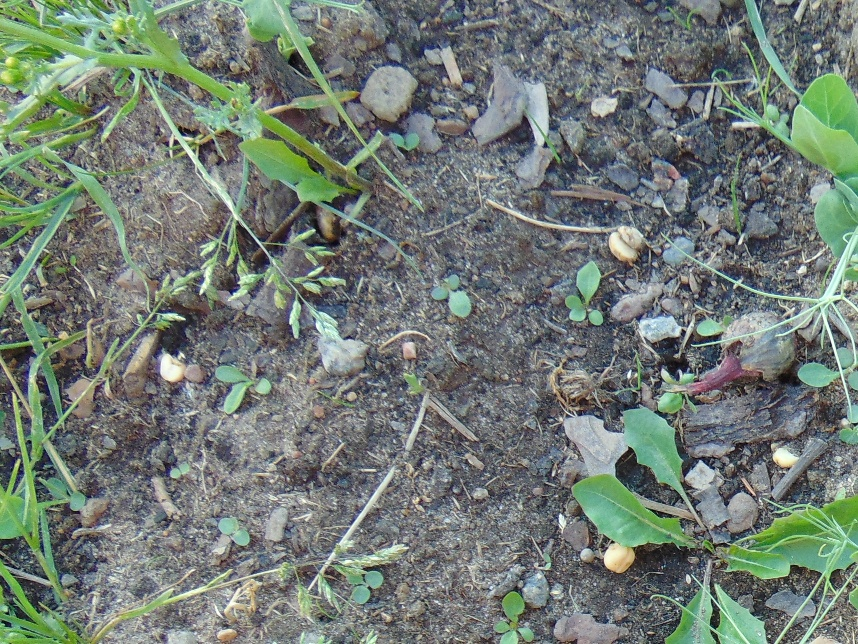crop: (727, 60, 858, 347), (739, 487, 858, 644), (222, 1, 353, 58), (659, 365, 702, 411), (1, 491, 32, 541)
weed: (1, 1, 368, 342), (583, 412, 804, 634), (1, 422, 125, 644), (213, 363, 272, 416), (563, 258, 604, 326), (491, 591, 533, 644), (431, 273, 472, 316), (344, 567, 381, 604), (215, 513, 249, 549), (388, 132, 420, 151)
